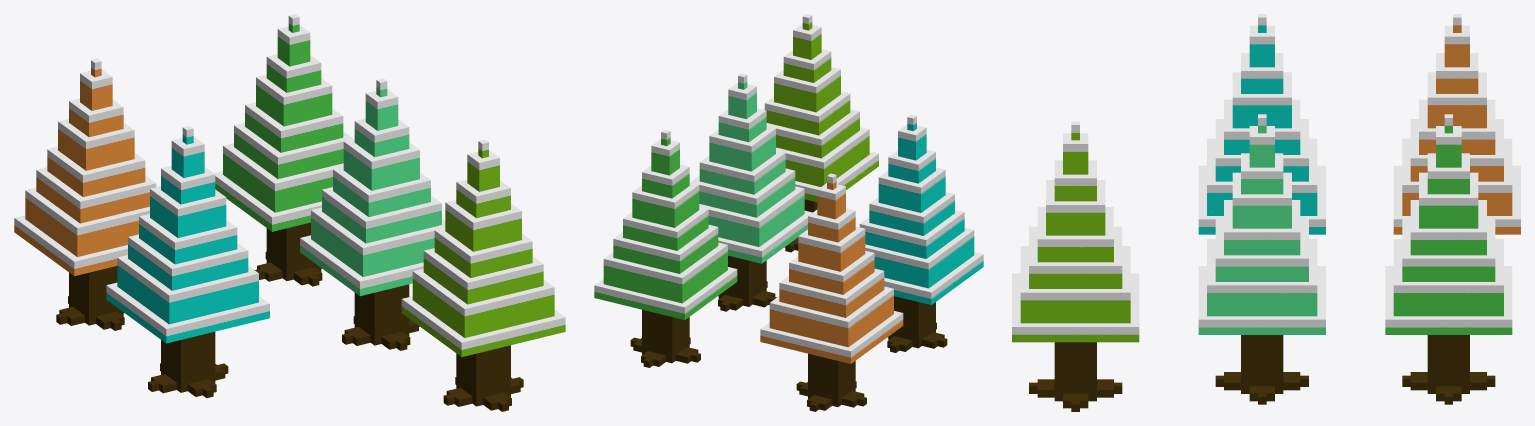
The model's file is Pines.fbx.
3 views of the same model, side by side, from view 1: azimuth 30°, elevation 25°; view 2: azimuth 150°, elevation 25°; view 3: azimuth 270°, elevation 25° (orthographic). The views are drawn at different scales.
Visible parts, largest first — view 1: Pine_3, Pine_2, Pine_4, Pine_1, Pine_0; view 2: Pine_0, Pine_1, Pine_2, Pine_4, Pine_3; view 3: Pine_3, Pine_0, Pine_4, Pine_1, Pine_2.
Boxes of the visible parts, x1,y1,x2,y2 form: Pine_3: [401, 139, 565, 411]; Pine_2: [106, 125, 269, 397]; Pine_4: [300, 78, 445, 350]; Pine_1: [14, 58, 156, 330]; Pine_0: [214, 14, 353, 286]; Pine_0: [594, 129, 737, 367]; Pine_1: [760, 173, 903, 411]; Pine_2: [859, 114, 983, 352]; Pine_4: [690, 73, 812, 311]; Pine_3: [764, 14, 878, 252]; Pine_3: [1012, 121, 1139, 411]; Pine_0: [1385, 114, 1512, 404]; Pine_4: [1198, 114, 1325, 404]; Pine_1: [1393, 14, 1520, 234]; Pine_2: [1198, 14, 1325, 234].
Bounding box in the file's own units: 45 × 35 × 60.
Materials: 1 (1 with a texture image).
